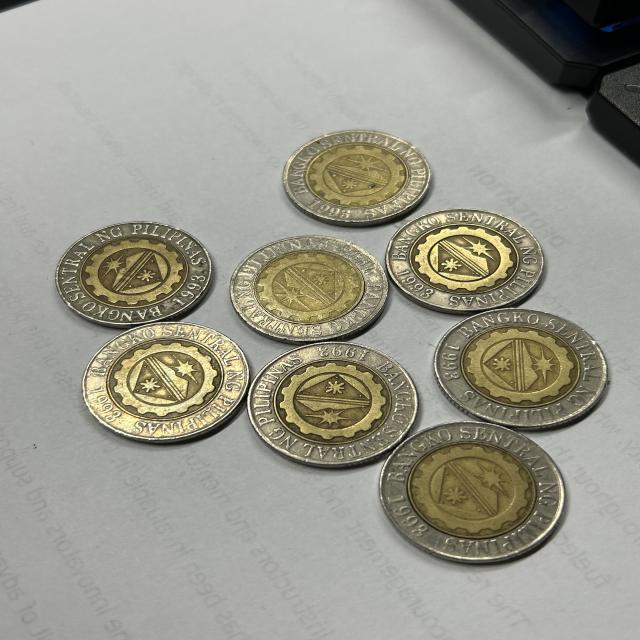10_Old_Back: (398, 433, 551, 550), (253, 351, 408, 455), (456, 314, 590, 431), (90, 329, 242, 423), (238, 239, 372, 332), (58, 228, 204, 313), (403, 211, 527, 305), (292, 134, 422, 214)
